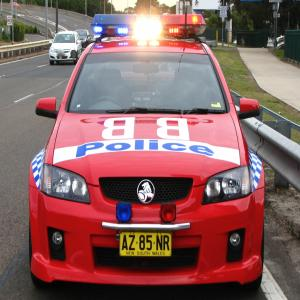Vehicle-registration-plate: (113, 229, 183, 267)
